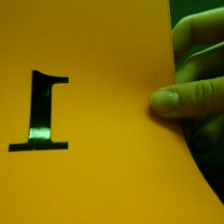orange1: (6, 64, 75, 163)
